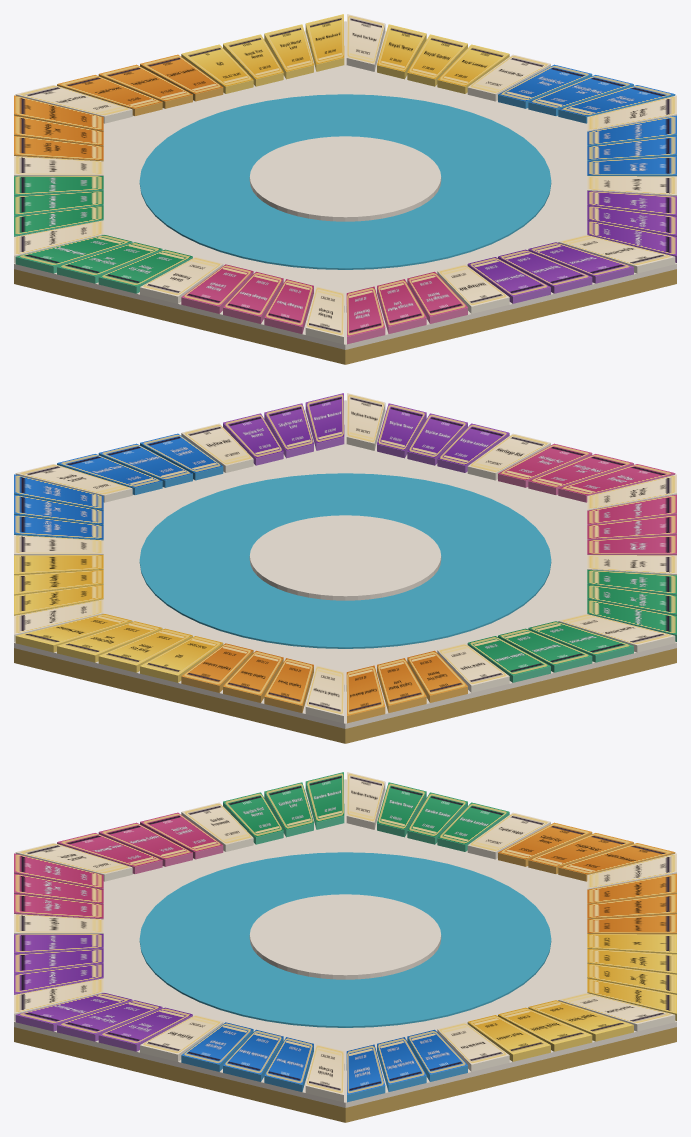
File: board_core.glb
3 views of the same model, one above another, from view 1: azimuth 30°, elevation 25°; view 2: azimuth 150°, elevation 25°; view 3: azimuth 270°, elevation 25° (orthographic).
Visible parts, largest first — view 1: CENTER_WATER, BASE_BOARD_MARBLE, CENTER_ISLAND, BASE_EDGE_GOLD, TILE_011_RIVERSIDE_BOULEVARD, TILE_044_CAPITAL_EXCHANGE, TILE_020_SKYLINE_EXCHANGE, TILE_035_GARDEN_BOULEVARD, TILE_010_RIVERSIDE_MARKET_LANE, TILE_021_SKYLINE_TERRACE, TILE_034_GARDEN_MARKET_LANE, TILE_045_CAPITAL_TERRACE (+40 smaller); view 2: CENTER_WATER, BASE_BOARD_MARBLE, CENTER_ISLAND, BASE_EDGE_GOLD, TILE_012_RIVERSIDE_EXCHANGE, TILE_027_HERITAGE_BOULEVARD, TILE_003_ROYAL_BOULEVARD, TILE_036_GARDEN_EXCHANGE, TILE_002_ROYAL_MARKET_LANE, TILE_013_RIVERSIDE_TERRACE, TILE_026_HERITAGE_MARKET_LANE, TILE_037_GARDEN_TERRACE (+40 smaller); view 3: CENTER_WATER, BASE_BOARD_MARBLE, CENTER_ISLAND, BASE_EDGE_GOLD, TILE_028_HERITAGE_EXCHANGE, TILE_043_CAPITAL_BOULEVARD, TILE_004_ROYAL_EXCHANGE, TILE_019_SKYLINE_BOULEVARD, TILE_005_ROYAL_TERRACE, TILE_018_SKYLINE_MARKET_LANE, TILE_029_HERITAGE_TERRACE, TILE_042_CAPITAL_MARKET_LANE (+40 smaller).
Part boxes in pixels (x1=…): CENTER_WATER: x1=139, y1=94, x2=551, y2=269; BASE_BOARD_MARBLE: x1=14, y1=21, x2=676, y2=349; CENTER_ISLAND: x1=249, y1=136, x2=441, y2=221; BASE_EDGE_GOLD: x1=14, y1=269, x2=676, y2=364; TILE_011_RIVERSIDE_BOULEVARD: x1=559, y1=85, x2=674, y2=115; TILE_044_CAPITAL_EXCHANGE: x1=16, y1=85, x2=131, y2=115; TILE_020_SKYLINE_EXCHANGE: x1=559, y1=235, x2=674, y2=265; TILE_035_GARDEN_BOULEVARD: x1=16, y1=235, x2=131, y2=265; TILE_010_RIVERSIDE_MARKET_LANE: x1=528, y1=75, x2=633, y2=108; TILE_021_SKYLINE_TERRACE: x1=529, y1=242, x2=633, y2=275; TILE_034_GARDEN_MARKET_LANE: x1=57, y1=242, x2=161, y2=275; TILE_045_CAPITAL_TERRACE: x1=57, y1=75, x2=162, y2=108; CENTER_WATER: x1=139, y1=473, x2=551, y2=648; BASE_BOARD_MARBLE: x1=14, y1=400, x2=676, y2=728; CENTER_ISLAND: x1=249, y1=515, x2=441, y2=600; BASE_EDGE_GOLD: x1=14, y1=648, x2=676, y2=743; TILE_012_RIVERSIDE_EXCHANGE: x1=16, y1=464, x2=131, y2=494; TILE_027_HERITAGE_BOULEVARD: x1=559, y1=464, x2=674, y2=494; TILE_003_ROYAL_BOULEVARD: x1=16, y1=614, x2=131, y2=644; TILE_036_GARDEN_EXCHANGE: x1=559, y1=614, x2=674, y2=644; TILE_002_ROYAL_MARKET_LANE: x1=57, y1=621, x2=161, y2=654; TILE_013_RIVERSIDE_TERRACE: x1=57, y1=454, x2=162, y2=487; TILE_026_HERITAGE_MARKET_LANE: x1=528, y1=454, x2=633, y2=487; TILE_037_GARDEN_TERRACE: x1=529, y1=621, x2=633, y2=654; CENTER_WATER: x1=139, y1=852, x2=551, y2=1027; BASE_BOARD_MARBLE: x1=14, y1=779, x2=676, y2=1107; CENTER_ISLAND: x1=249, y1=894, x2=441, y2=979; BASE_EDGE_GOLD: x1=14, y1=1027, x2=676, y2=1122; TILE_028_HERITAGE_EXCHANGE: x1=16, y1=843, x2=131, y2=873; TILE_043_CAPITAL_BOULEVARD: x1=559, y1=843, x2=674, y2=873; TILE_004_ROYAL_EXCHANGE: x1=559, y1=993, x2=674, y2=1023; TILE_019_SKYLINE_BOULEVARD: x1=16, y1=993, x2=131, y2=1023; TILE_005_ROYAL_TERRACE: x1=529, y1=1000, x2=633, y2=1033; TILE_018_SKYLINE_MARKET_LANE: x1=57, y1=1000, x2=161, y2=1033; TILE_029_HERITAGE_TERRACE: x1=57, y1=833, x2=162, y2=866; TILE_042_CAPITAL_MARKET_LANE: x1=528, y1=833, x2=633, y2=866.
Bounding box in the file's own units: 20 × 0.798 × 17.32.
Materials: 59 (48 with a texture image).
